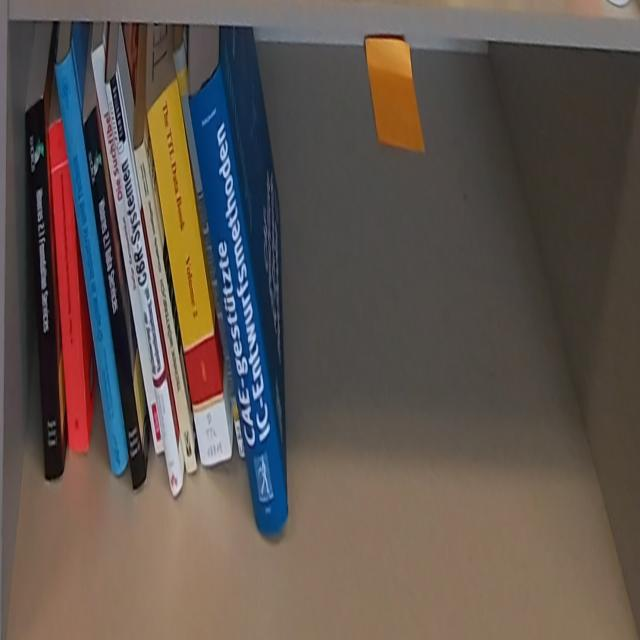Book Spine: (190, 62, 290, 536), (105, 70, 184, 496), (148, 77, 233, 467), (55, 43, 129, 475), (173, 39, 246, 458), (84, 108, 147, 491), (134, 140, 198, 476), (25, 97, 63, 483), (49, 122, 89, 456)
